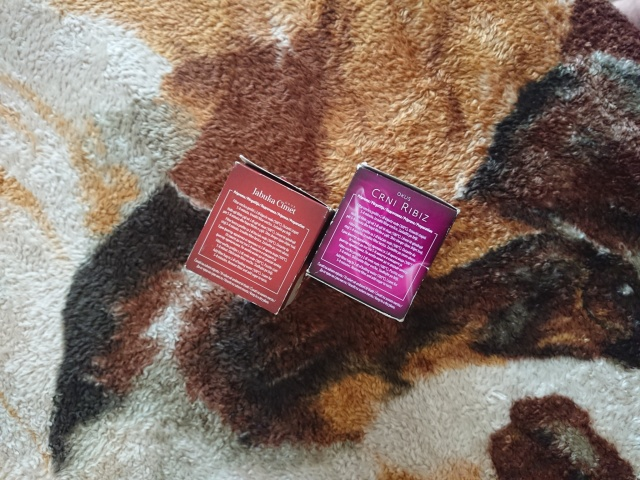Franck Apple Cinnamon Tea 60g: (181, 151, 347, 319)
Franck Black Currant Tea 60g: (302, 158, 462, 327)
